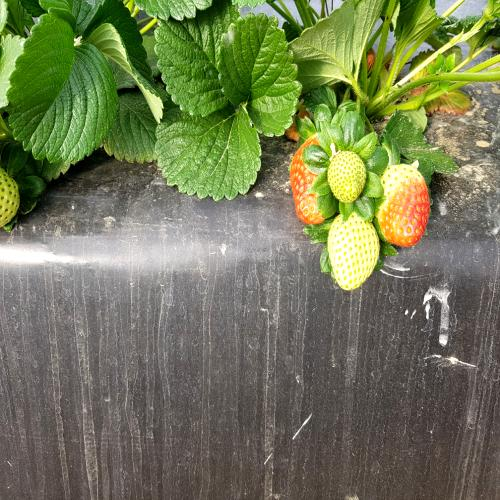partially-ripe: (376, 150, 430, 253)
ripe: (288, 127, 347, 228)
unripe: (325, 208, 379, 288), (323, 139, 366, 199)
